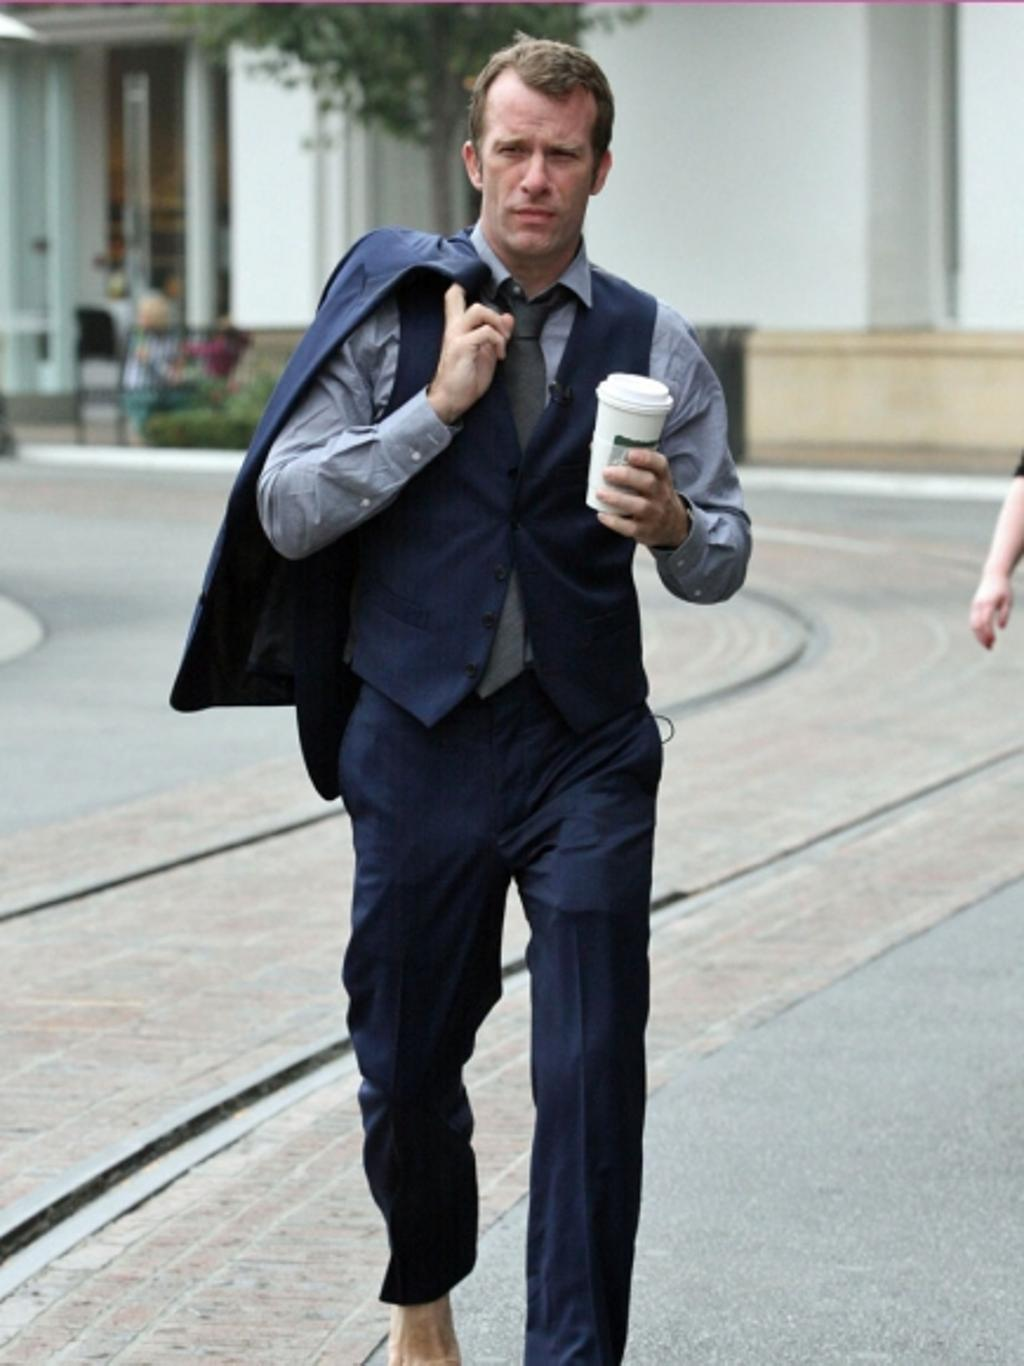face: (480, 80, 600, 264)
